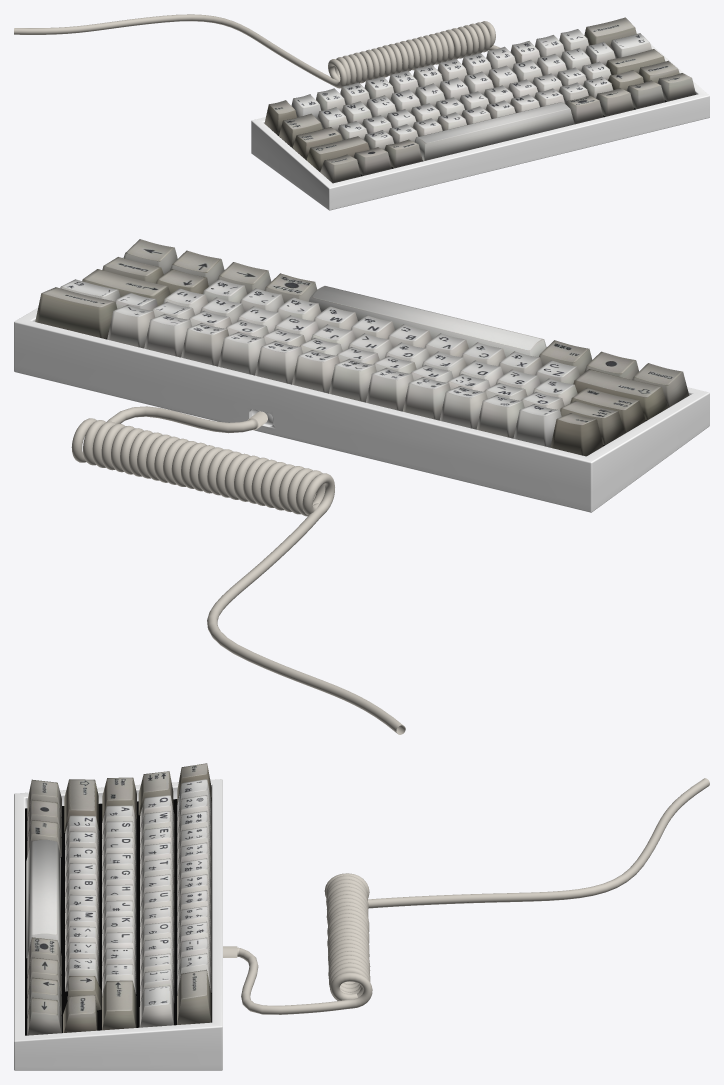
The model's file is mechanical_keyboard.glb.
The picture shows the model from 3 angles, top to bottom: view 1: azimuth 30°, elevation 25°; view 2: azimuth 150°, elevation 25°; view 3: azimuth 270°, elevation 25°; orthographic projection. The views are drawn at different scales.
Visible parts, largest first — view 1: Base, Wires, Space, Shift, Backspace, Enter, Ctrl, Caps, Tab, Alt, Fn_left, Left (+52 smaller); view 2: Base, Wires, Space, Backspace, Shift, Esc, 7, 6, 5, 8, 1, 3 (+18 smaller); view 3: Base, Wires, Plane, Space, Backspace, Enter, Backslash, Shift, Delete, Right, Caps, Tab (+53 smaller).
Part boxes in pixels (box(x1,y1,x2,y2)): Base: box(251, 32, 709, 210); Wires: box(14, 14, 500, 88); Space: box(415, 102, 574, 160); Shift: box(306, 136, 369, 171); Backspace: box(584, 17, 636, 46); Enter: box(606, 49, 665, 75); Ctrl: box(320, 154, 360, 183); Caps: box(292, 127, 342, 159); Tab: box(279, 113, 322, 147); Alt: box(384, 139, 422, 168); Fn_left: box(353, 147, 391, 175); Left: box(596, 88, 634, 116); Base: box(14, 257, 709, 512); Wires: box(71, 406, 405, 734); Space: box(309, 286, 546, 357); Backspace: box(35, 287, 117, 338); Shift: box(573, 369, 667, 420); Esc: box(550, 413, 603, 456); 7: box(292, 350, 339, 393); 6: box(329, 359, 376, 402); 5: box(366, 368, 413, 411); 8: box(255, 341, 302, 384); 1: box(513, 404, 561, 447); 3: box(439, 386, 487, 429); Base: box(14, 779, 222, 1070); Wires: box(223, 778, 709, 1014); Plane: box(25, 797, 211, 1035); Space: box(26, 839, 60, 958); Backspace: box(177, 969, 211, 1024); Enter: box(102, 980, 136, 1030); Backslash: box(139, 985, 173, 1027); Shift: box(64, 779, 98, 832); Delete: box(63, 995, 97, 1032); Right: box(27, 997, 61, 1035); Caps: box(102, 777, 136, 821); Tab: box(138, 771, 173, 815).
Size of the model in its own units: 7.96 by 0.8907 by 8.21.
5 materials, 1 textured.
